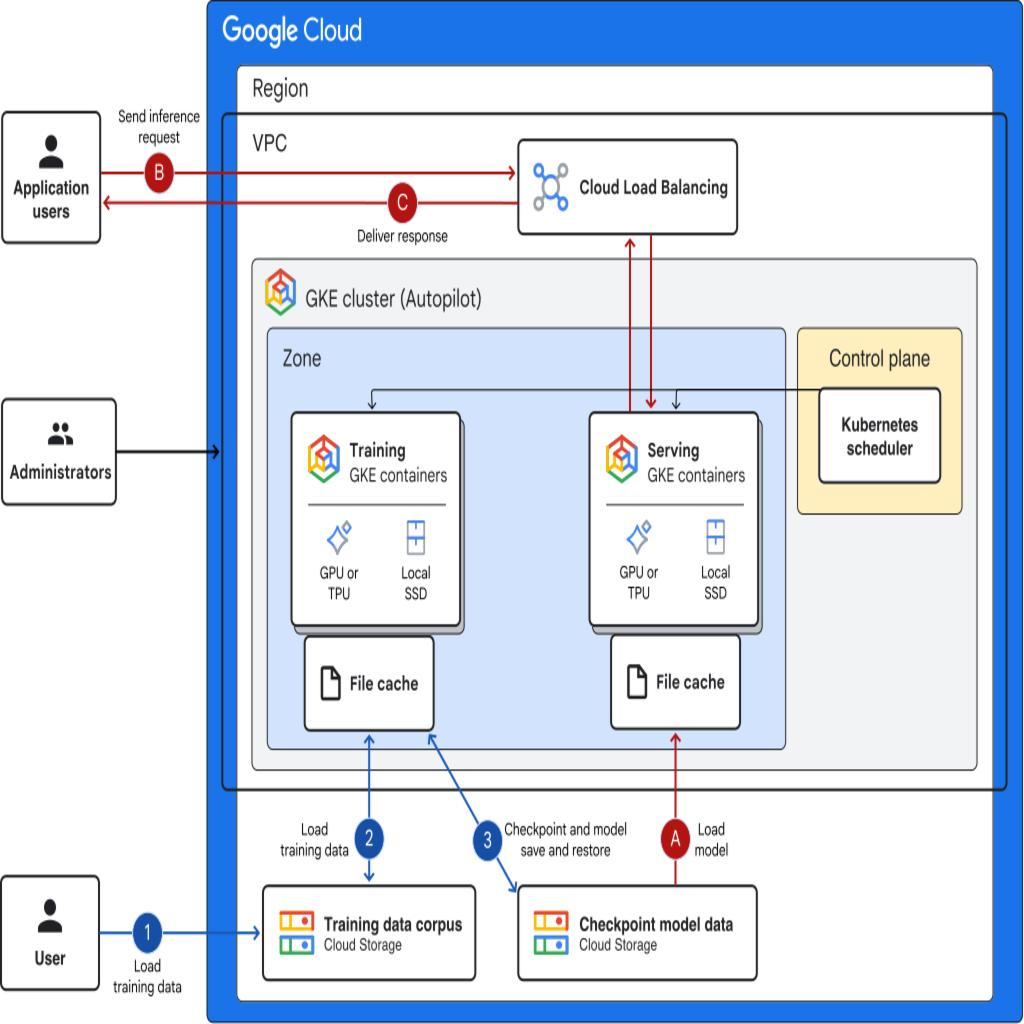actor: (0, 110, 100, 246), (0, 396, 109, 505), (0, 874, 100, 990)
api_gateway: (516, 137, 739, 234)
compute: (292, 414, 462, 626), (590, 414, 758, 626), (817, 387, 940, 481)
data_flow: (370, 386, 804, 392), (0, 200, 306, 206), (0, 170, 306, 174), (646, 233, 652, 412), (625, 233, 630, 412), (334, 802, 528, 806), (366, 732, 371, 876), (20, 930, 182, 934), (50, 448, 167, 453), (672, 732, 676, 876)
database_storage: (516, 885, 756, 979), (261, 885, 476, 979), (304, 639, 433, 733), (610, 639, 738, 733)
trust_boundary: (205, 5, 1024, 1019), (220, 37, 1008, 989), (236, 110, 994, 791), (266, 326, 786, 754), (796, 328, 960, 516)
